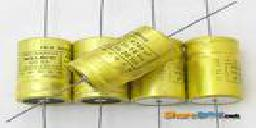Electrolytic Capacitor: (77, 6, 186, 99), (16, 1, 69, 120), (189, 18, 248, 124)
